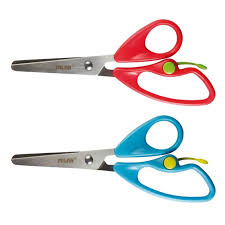tihiras: (9, 17, 219, 107), (10, 114, 218, 204)
